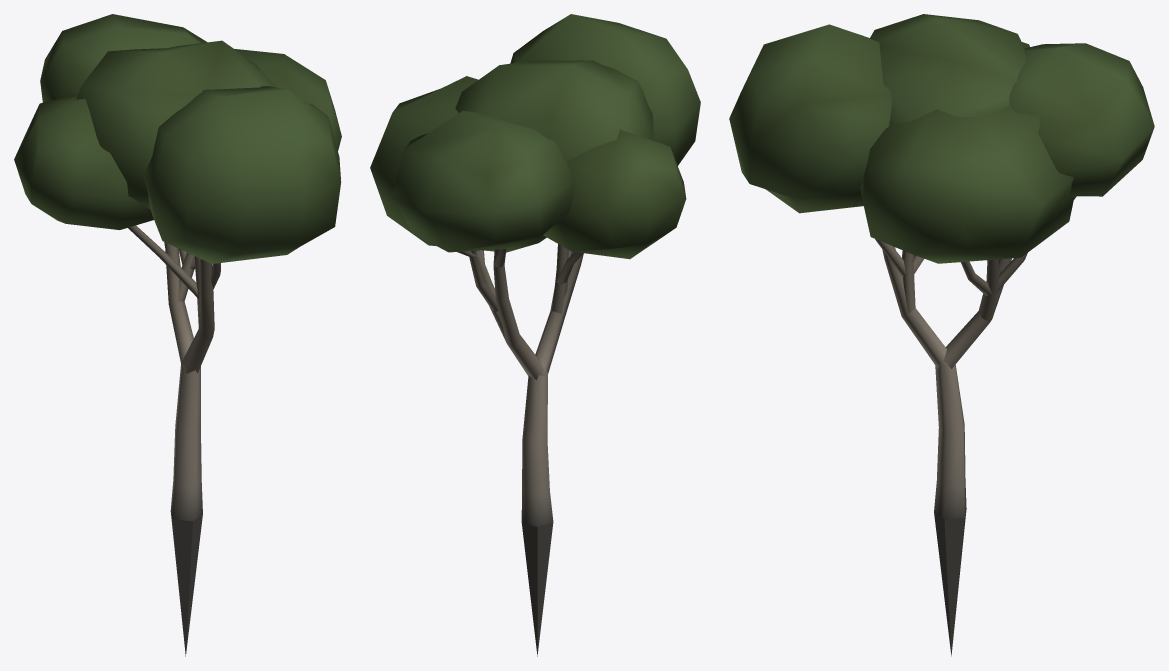
File: trees-broadleaf-trees-birch-tree_v2.glb
The picture shows the model from 3 angles, left to right: view 1: azimuth 30°, elevation 25°; view 2: azimuth 150°, elevation 25°; view 3: azimuth 270°, elevation 25°; orthographic projection. The views are drawn at different scales.
Visible parts, largest first — view 1: Birch Tree_v2; view 2: Birch Tree_v2; view 3: Birch Tree_v2.
Part boxes in pixels (x1,y1,x2,y2): Birch Tree_v2: (14, 14, 341, 656); Birch Tree_v2: (370, 14, 700, 656); Birch Tree_v2: (729, 14, 1154, 656).
Bounding box in the file's own units: 7.88 × 15 × 9.26.
